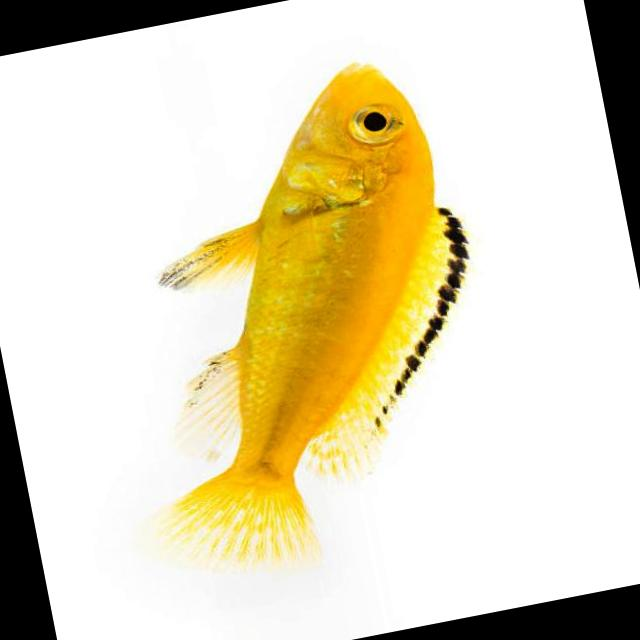YellowCichlid: (66, 35, 540, 625)
